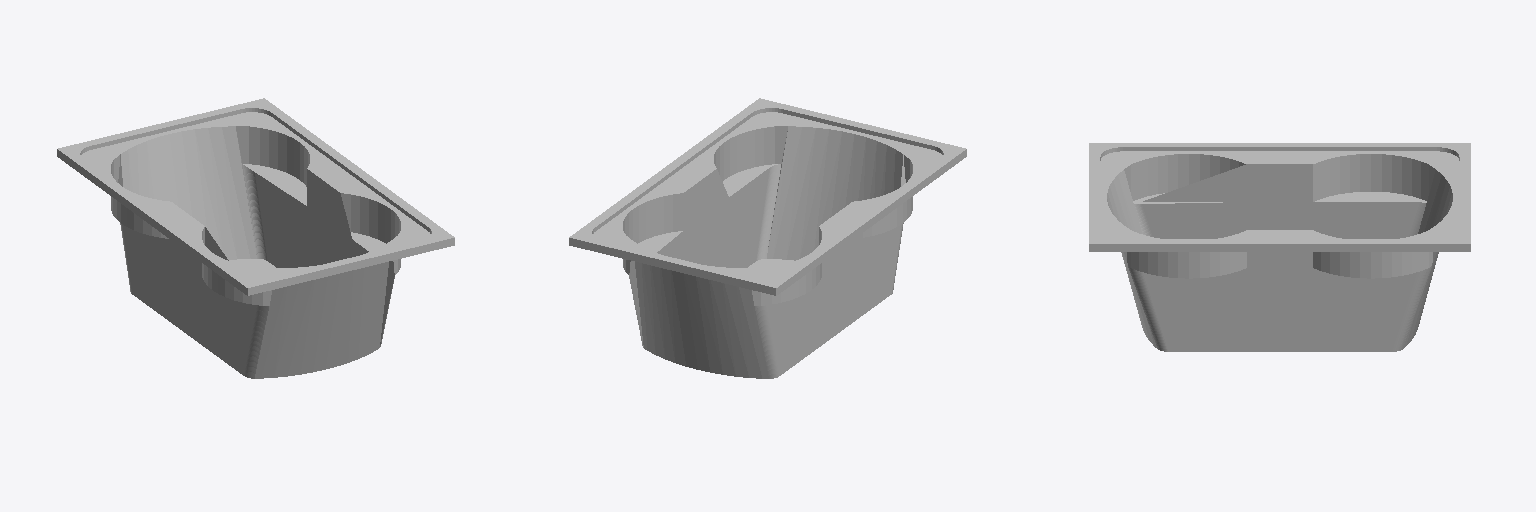
Rendered from ORION BLANCA.obj.
The picture shows the model from 3 angles: view 1: azimuth 30°, elevation 25°; view 2: azimuth 150°, elevation 25°; view 3: azimuth 270°, elevation 25°; orthographic projection.
Parts seen in each view (by area): view 1: Mesh1 Group1 Model; view 2: Mesh1 Group1 Model; view 3: Mesh1 Group1 Model.
Boxes of the visible parts, box(x1,y1,x2,y2) form: Mesh1 Group1 Model: box(57, 98, 454, 378); Mesh1 Group1 Model: box(569, 98, 966, 378); Mesh1 Group1 Model: box(1089, 143, 1470, 351).
Size of the model in its own units: 83 by 48 by 132.